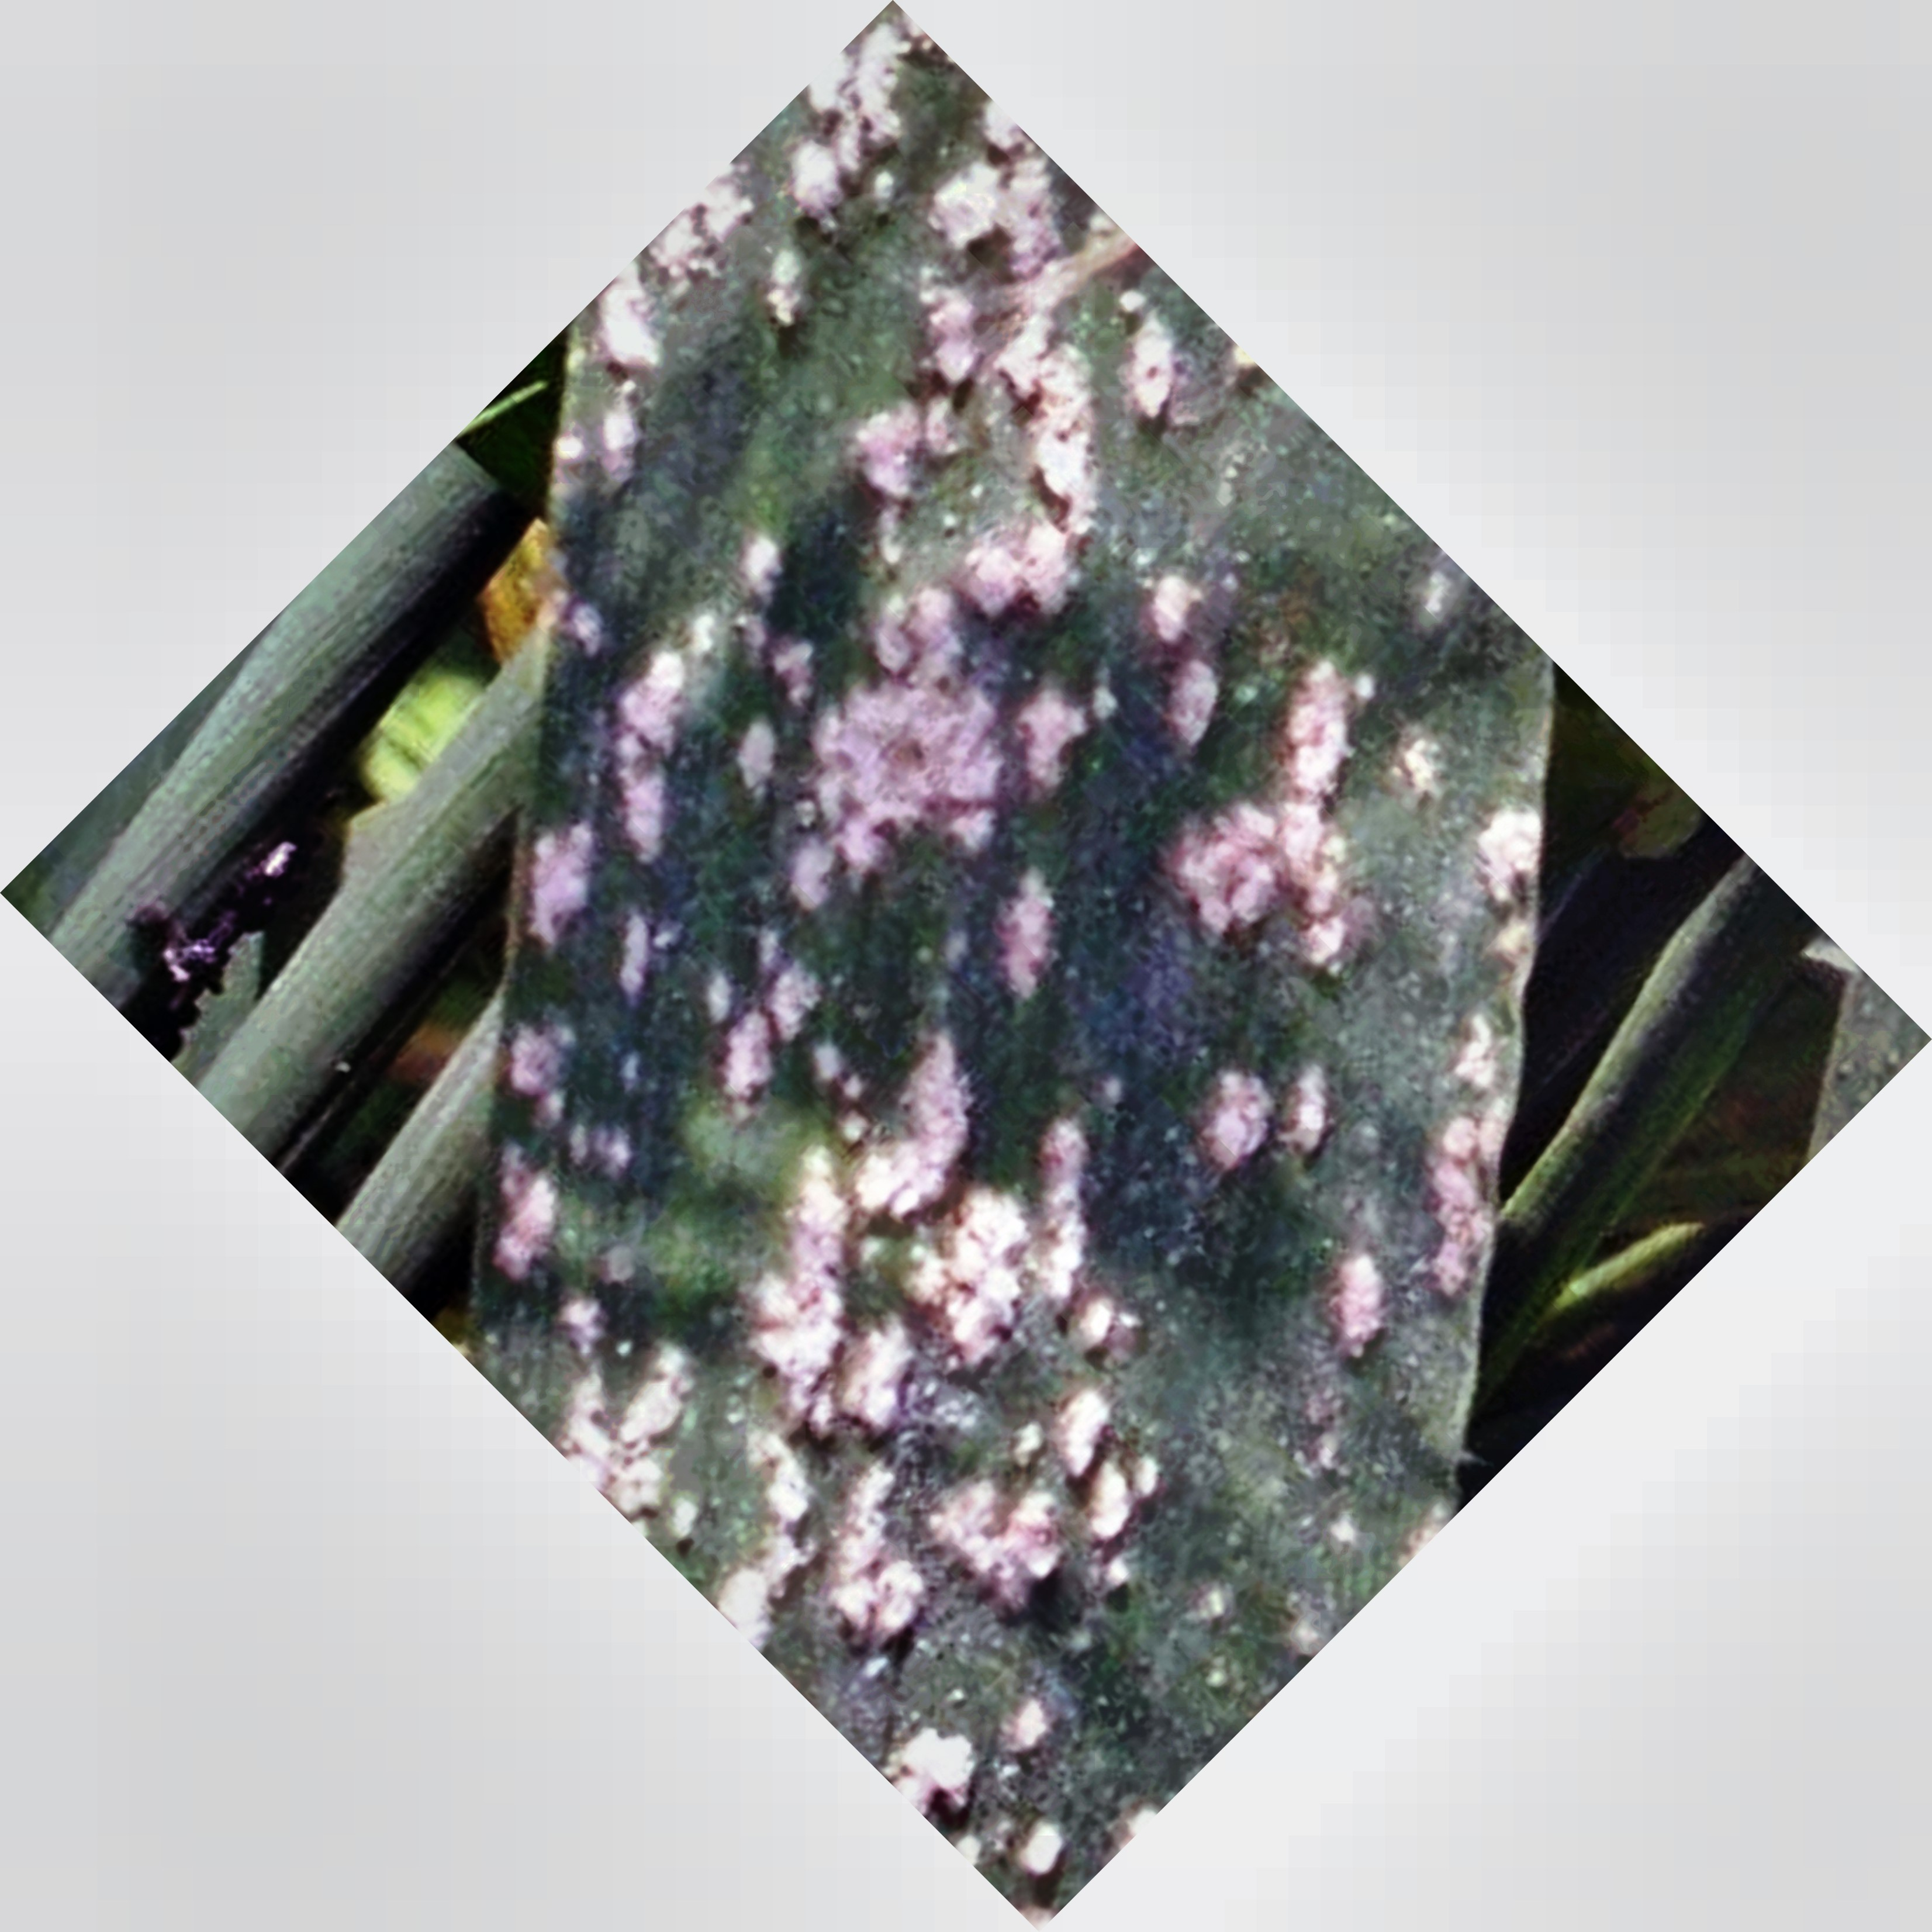Powdery Mildew: (471, 274, 1560, 1690)
